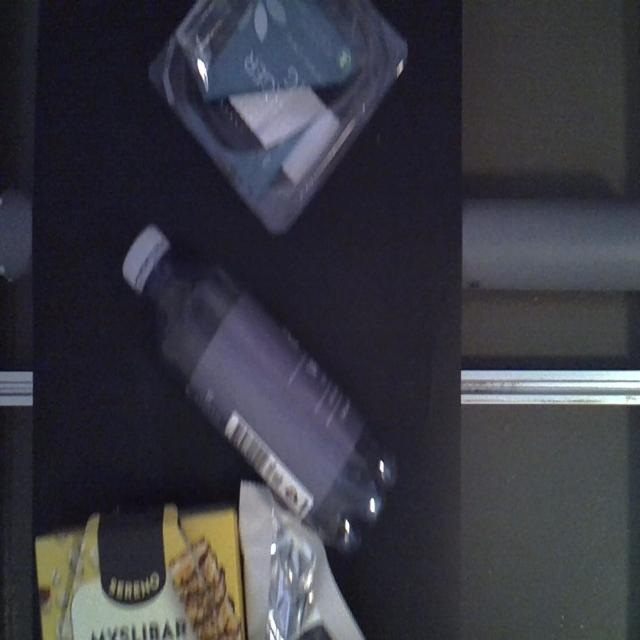bottle-plastic: (118, 216, 400, 554)
carton: (32, 479, 244, 637)
mixed-plastics: (144, 0, 411, 233)
packaging-soft-plastic: (234, 478, 371, 640)
